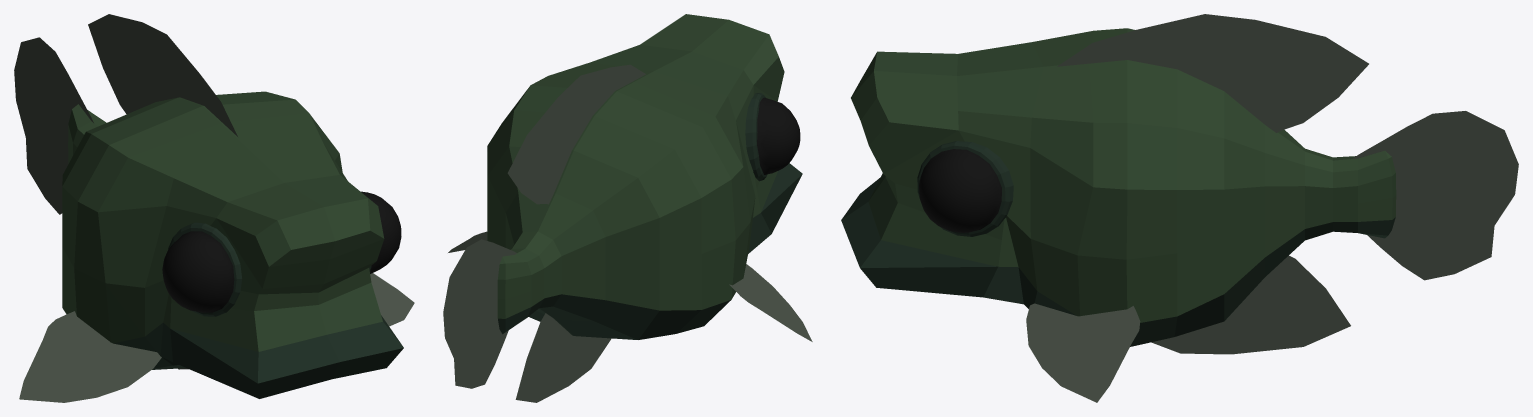
File: Humphead.glb
The picture shows the model from 3 angles, left to right: view 1: azimuth 30°, elevation 25°; view 2: azimuth 150°, elevation 25°; view 3: azimuth 270°, elevation 25°; orthographic projection. The views are drawn at different scales.
Visible parts, largest first — view 1: Humphead; view 2: Humphead; view 3: Humphead.
Boxes of the visible parts, box(x1,y1,x2,y2) form: Humphead: box(14, 14, 414, 402); Humphead: box(443, 14, 812, 402); Humphead: box(841, 14, 1518, 402).
Bounding box in the file's own units: 0.4581 × 0.3619 × 0.653.
